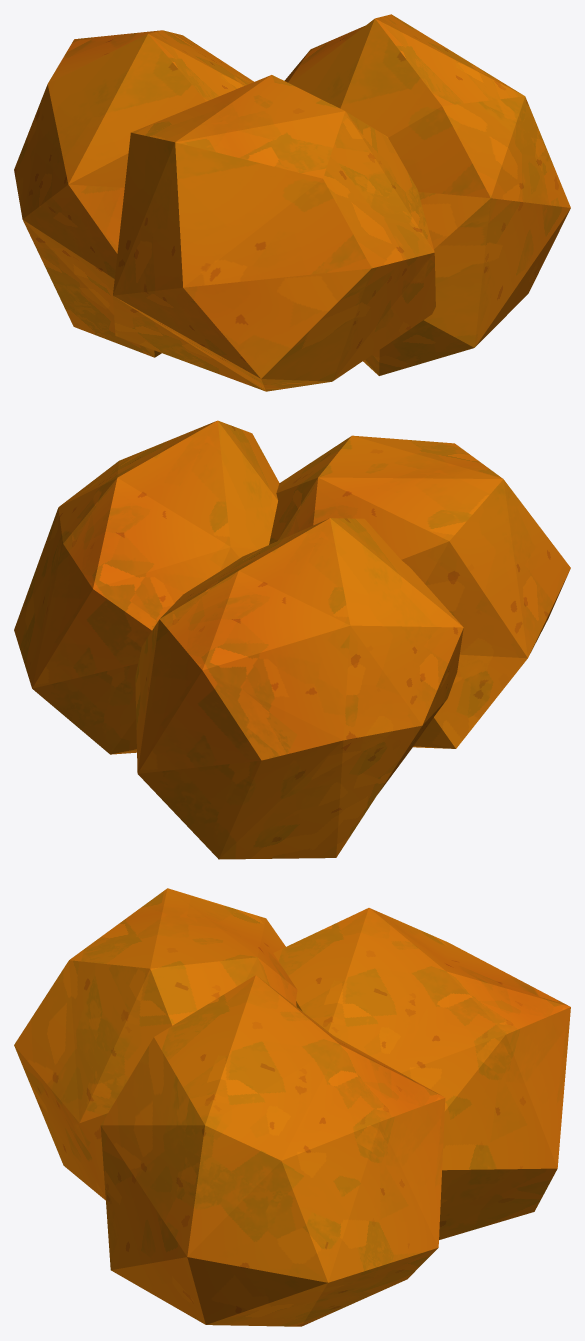
File: gf_int_smallbolders1_1.glb
3 renders of one model, top to bottom at view 1: azimuth 30°, elevation 25°; view 2: azimuth 150°, elevation 25°; view 3: azimuth 270°, elevation 25°, orthographic.
Parts seen in each view (by area): view 1: rocks.003; view 2: rocks.003; view 3: rocks.003.
Part boxes in pixels (x1=…): rocks.003: x1=14, y1=14, x2=570, y2=391; rocks.003: x1=14, y1=420, x2=570, y2=859; rocks.003: x1=14, y1=888, x2=570, y2=1326.
Bounding box in the file's own units: 1.79 × 1.25 × 1.89.
1 material, 1 textured.
